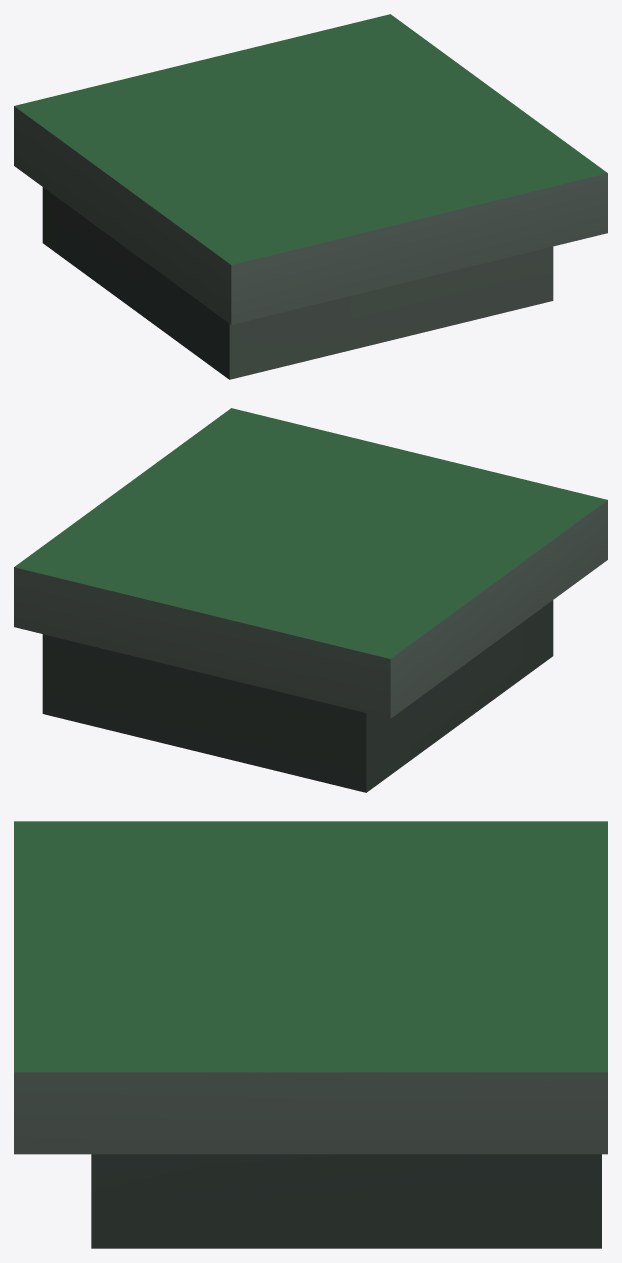
The model's file is custom-degrau-rocha.glb.
The picture shows the model from 3 angles, top to bottom: view 1: azimuth 30°, elevation 25°; view 2: azimuth 150°, elevation 25°; view 3: azimuth 270°, elevation 25°; orthographic projection. The views are drawn at different scales.
Parts seen in each view (by area): view 1: degrau-rocha; view 2: degrau-rocha; view 3: degrau-rocha.
Boxes of the visible parts, x1,y1,x2,y2 form: degrau-rocha: (14, 14, 607, 379); degrau-rocha: (14, 408, 607, 792); degrau-rocha: (14, 821, 607, 1248).
Bounding box in the file's own units: 2.5 × 0.9 × 2.5.
